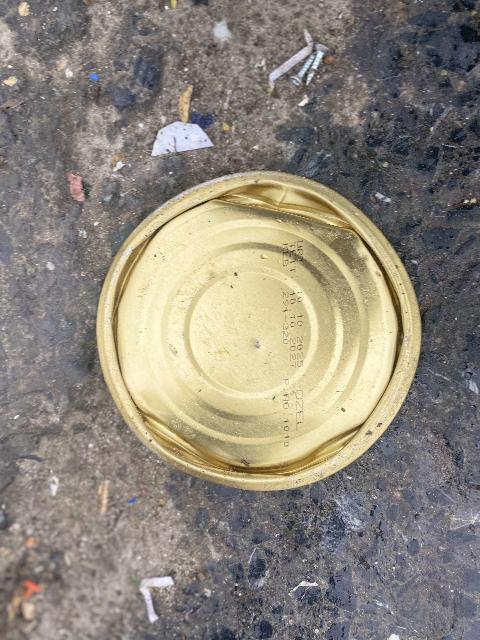Kagit: (132, 562, 181, 625), (143, 125, 224, 156)
Metal: (90, 176, 419, 495), (292, 41, 344, 92), (317, 70, 322, 78)
